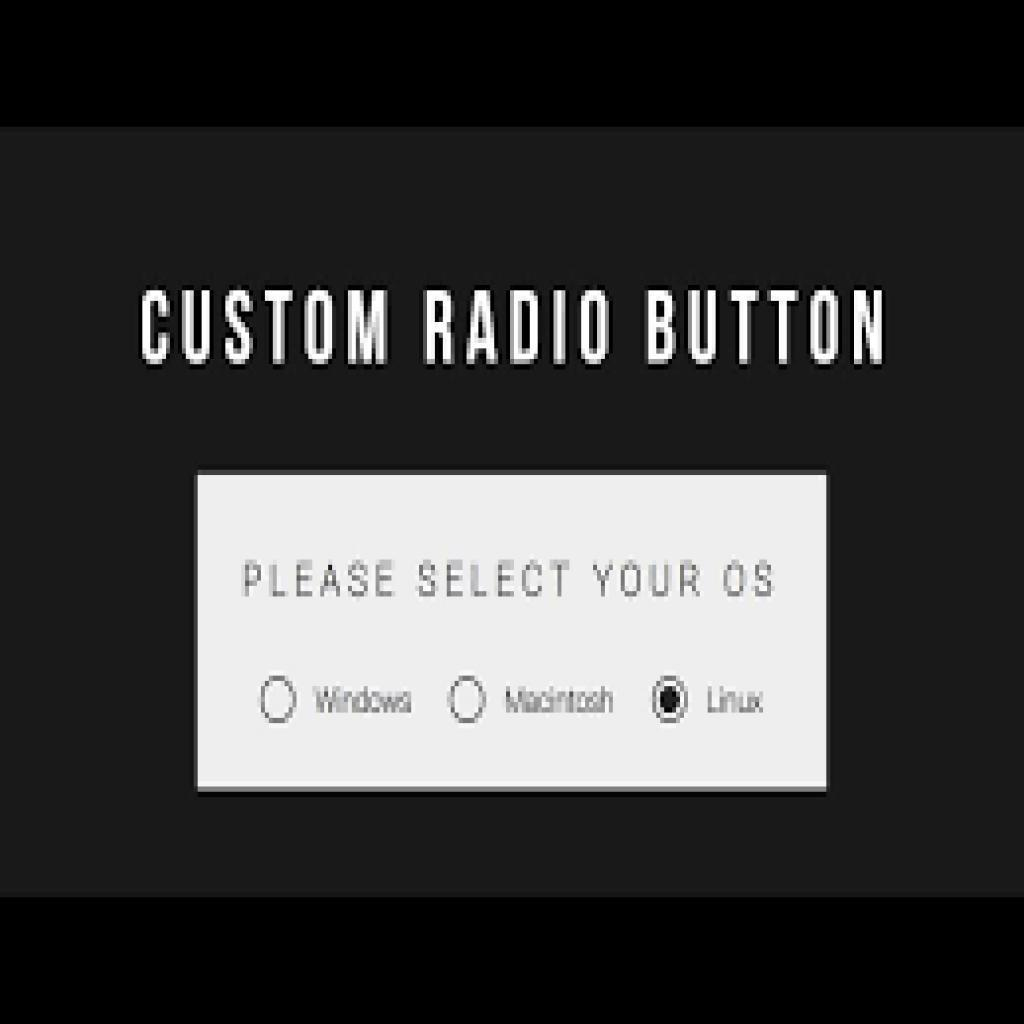radio: (445, 671, 492, 734), (649, 669, 693, 735), (254, 670, 302, 730)
